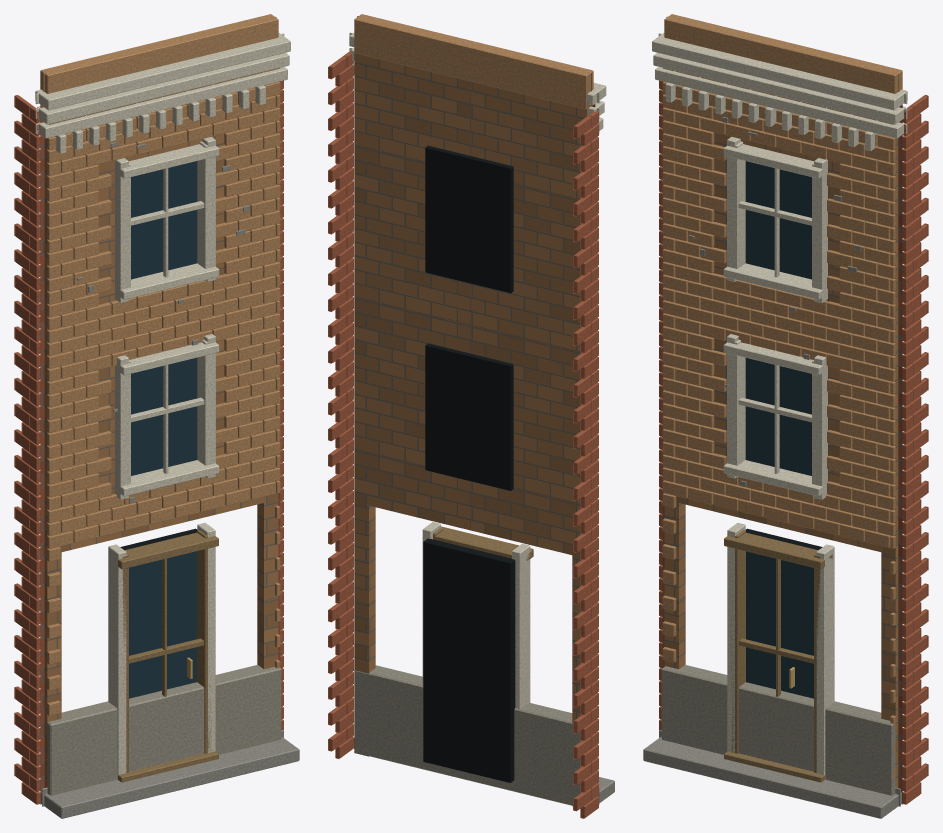
The model's file is RUNDWN17_lod0.glb.
The picture shows the model from 3 angles, left to right: view 1: azimuth 30°, elevation 25°; view 2: azimuth 150°, elevation 25°; view 3: azimuth 330°, elevation 25°; orthographic projection.
Visible parts, largest first — view 1: RUNDWN17_FRONT_LOD0; view 2: RUNDWN17_FRONT_LOD0; view 3: RUNDWN17_FRONT_LOD0.
Boxes of the visible parts, box(x1,y1,x2,y2) form: RUNDWN17_FRONT_LOD0: box(14, 14, 299, 818); RUNDWN17_FRONT_LOD0: box(328, 14, 614, 818); RUNDWN17_FRONT_LOD0: box(643, 14, 928, 818).
Size of the model in its own units: 3.44 by 9.66 by 1.02.
16 materials, 13 textured.
